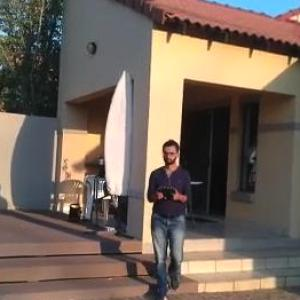follow: (143, 136, 194, 299)
